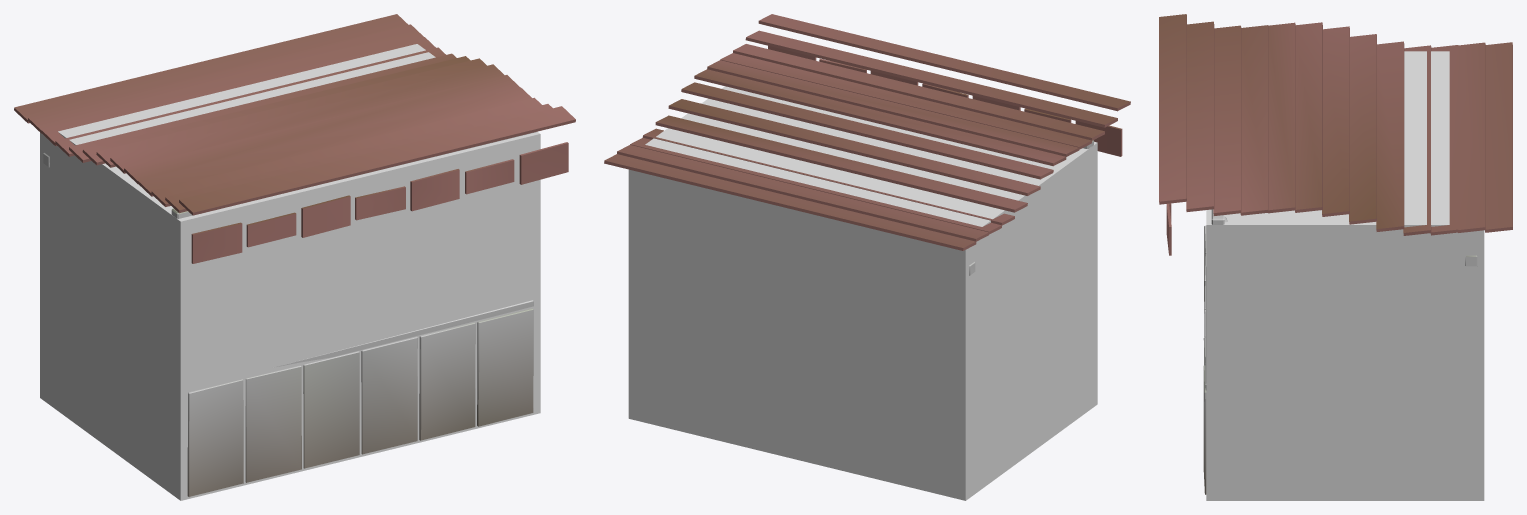
Rendered from prop_market_stall_a.glb.
The picture shows the model from 3 angles, left to right: view 1: azimuth 30°, elevation 25°; view 2: azimuth 150°, elevation 25°; view 3: azimuth 270°, elevation 25°; orthographic projection. The views are drawn at different scales.
Visible parts, largest first — view 1: col_stall, cloth_awning, stall_frame; view 2: col_stall, cloth_awning; view 3: col_stall, cloth_awning, stall_frame.
Part boxes in pixels (x1=…): col_stall: x1=40, y1=44, x2=540, y2=500; cloth_awning: x1=14, y1=14, x2=575, y2=263; stall_frame: x1=43, y1=132, x2=536, y2=496; col_stall: x1=628, y1=86, x2=1097, y2=500; cloth_awning: x1=604, y1=14, x2=1130, y2=250; col_stall: x1=1206, y1=51, x2=1484, y2=500; cloth_awning: x1=1159, y1=14, x2=1512, y2=255; stall_frame: x1=1203, y1=209, x2=1477, y2=494.
Bounding box in the file's own units: 3.3 × 2.58 × 2.67.
